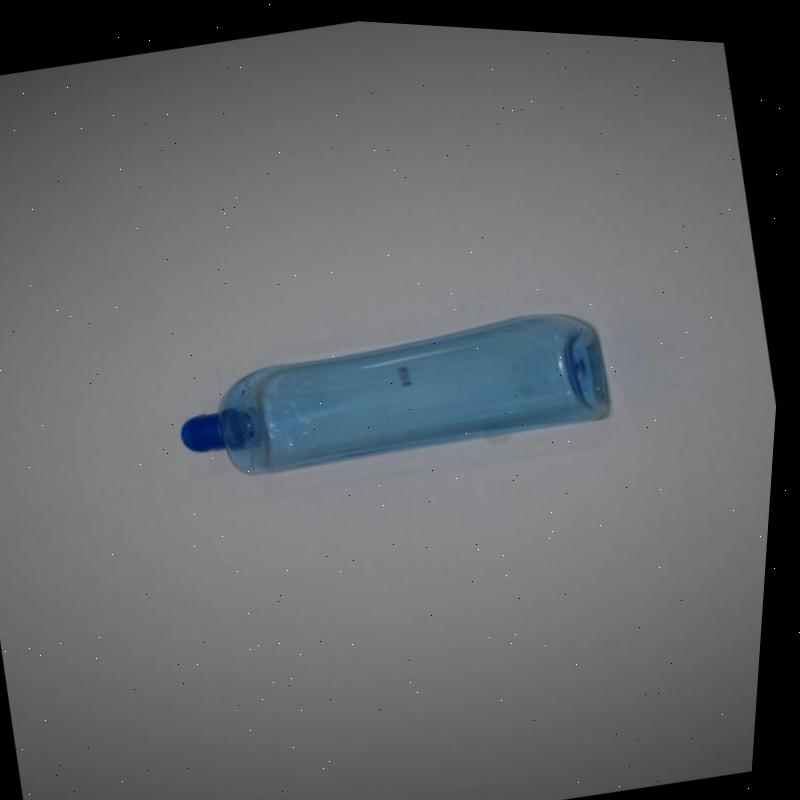botella: (167, 277, 633, 507)
